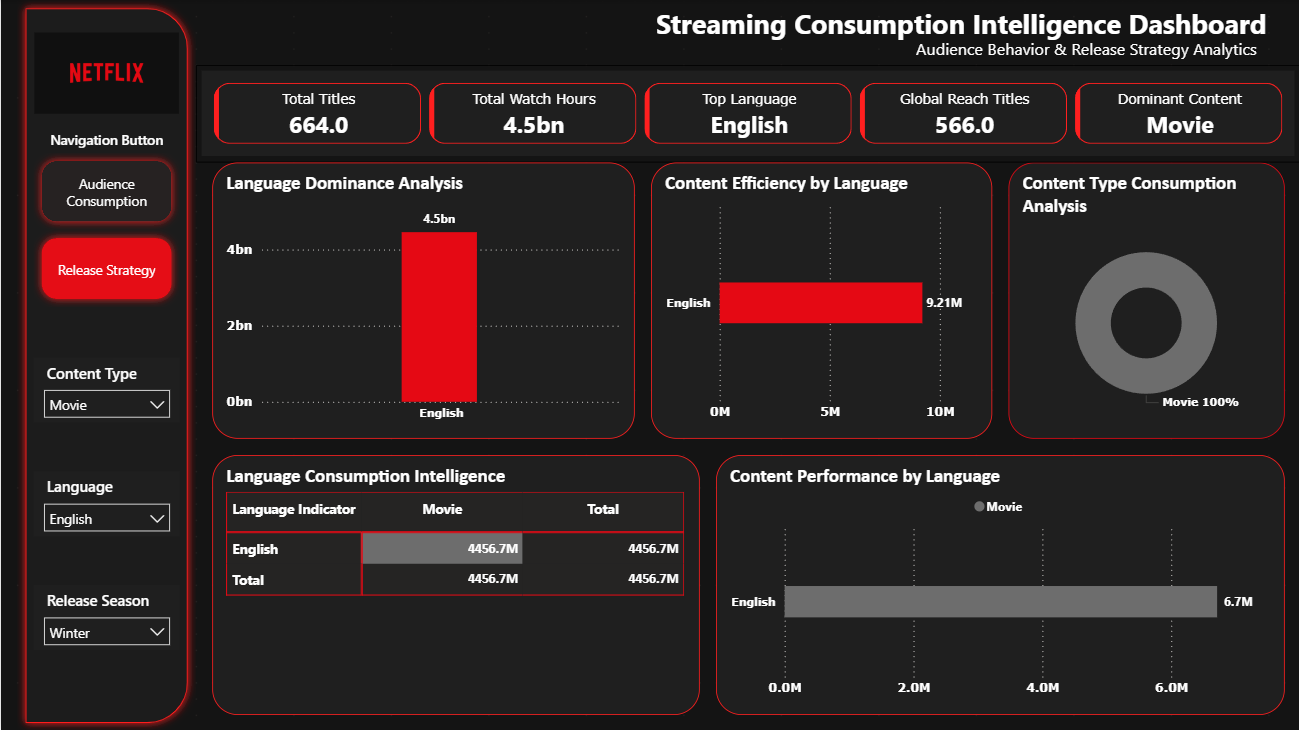

What the dashboard file says about the page in this screenshot:
{"tool":"powerbi","page":{"name":"Audience Consumption","canvas":[1280,720],"ordinal":0},"visuals":[{"type":"shape","box":[16,0,176,720],"z":0},{"type":"pivotTable","title":"Language Consumption Intelligence","fields":{"Rows":["streaming_consumption_intelligence.Language Indicator"],"Columns":["streaming_consumption_intelligence.Content Type"],"Values":["Sum(streaming_consumption_intelligence.Hours Viewed)"]},"box":[208,448,480,256],"z":1000},{"type":"donutChart","title":"Content Type Consumption Analysis","fields":{"Category":["streaming_consumption_intelligence.Content Type"],"Y":["Sum(streaming_consumption_intelligence.Hours Viewed)"]},"box":[992,160,272,272],"z":2000},{"type":"cardVisual","fields":{"Data":["streaming_consumption_intelligence.Total Titles","streaming_consumption_intelligence.Total Watch Hours","streaming_consumption_intelligence.Top Language","streaming_consumption_intelligence.Global Reach Titles","streaming_consumption_intelligence.Binge Dominant Content"]},"box":[192,64,1088,96],"z":3000},{"type":"slicer","fields":{"Values":["streaming_consumption_intelligence.Content Type"]},"box":[32,352,144,64],"z":4000},{"type":"slicer","fields":{"Values":["streaming_consumption_intelligence.Language Indicator"]},"box":[32,464,144,64],"z":5000},{"type":"pageNavigator","title":"Navigation Button","box":[32,128,144,176],"z":6000},{"type":"textbox","box":[640,0,624,48],"z":7000},{"type":"textbox","box":[896,32,368,32],"z":8000},{"type":"image","box":[32,32,144,80],"z":9000},{"type":"slicer","fields":{"Values":["streaming_consumption_intelligence.Release Season"]},"box":[32,576,144,64],"z":10000},{"type":"clusteredColumnChart","title":"Language Dominance Analysis","fields":{"Y":["Sum(streaming_consumption_intelligence.Hours Viewed)"],"Category":["streaming_consumption_intelligence.Language Indicator"]},"box":[208,160,416,272],"z":11000},{"type":"clusteredBarChart","title":"Content Performance by Language","fields":{"Category":["streaming_consumption_intelligence.Language Indicator"],"Y":["Avg(streaming_consumption_intelligence.Hours Viewed)"],"Series":["streaming_consumption_intelligence.Content Type"]},"box":[704,448,560,256],"z":14000},{"type":"barChart","title":"Content Efficiency by Language","fields":{"Category":["streaming_consumption_intelligence.Language Indicator"],"Y":["streaming_consumption_intelligence.Avg Watch Hours per Title"]},"box":[640,160,336,272],"z":14003}]}

Visuals, with their boxes in screenshot pixels (x1, y1, x2, y2), scaled from the page's 1280x720 canvas onto the 1299x730 screenshot:
shape: left=16, top=0, right=195, bottom=729
"Language Consumption Intelligence" pivotTable: left=211, top=454, right=698, bottom=714
"Content Type Consumption Analysis" donutChart: left=1007, top=162, right=1283, bottom=438
cardVisual - streaming_consumption_intelligence.Total Titles x streaming_consumption_intelligence.Total Watch Hours: left=195, top=65, right=1298, bottom=162
slicer - streaming_consumption_intelligence.Content Type: left=32, top=357, right=179, bottom=422
slicer - streaming_consumption_intelligence.Language Indicator: left=32, top=470, right=179, bottom=535
"Navigation Button" pageNavigator: left=32, top=130, right=179, bottom=308
textbox: left=650, top=0, right=1283, bottom=49
textbox: left=909, top=32, right=1283, bottom=65
image: left=32, top=32, right=179, bottom=114
slicer - streaming_consumption_intelligence.Release Season: left=32, top=584, right=179, bottom=649
"Language Dominance Analysis" clusteredColumnChart: left=211, top=162, right=633, bottom=438
"Content Performance by Language" clusteredBarChart: left=714, top=454, right=1283, bottom=714
"Content Efficiency by Language" barChart: left=650, top=162, right=990, bottom=438
